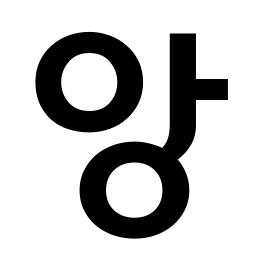Gaji: (159, 69, 214, 118)
